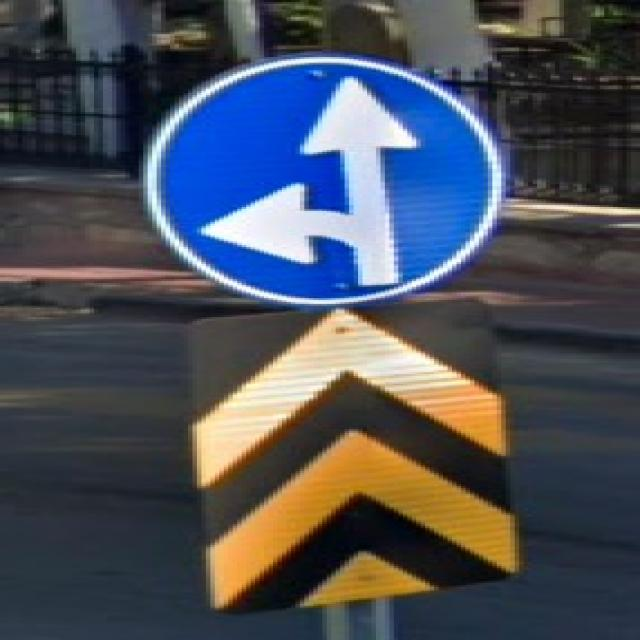Straight or Left: (149, 56, 502, 305)
